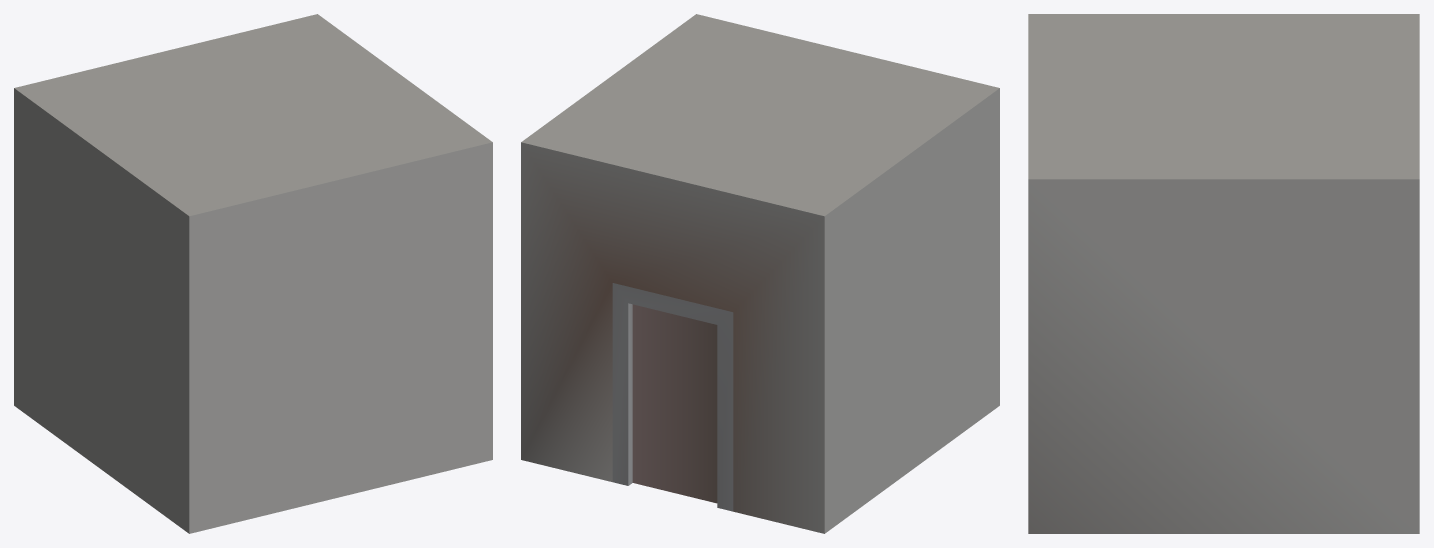
File: wall-a-door.glb
The picture shows the model from 3 angles, left to right: view 1: azimuth 30°, elevation 25°; view 2: azimuth 150°, elevation 25°; view 3: azimuth 270°, elevation 25°; orthographic projection. The views are drawn at different scales.
Parts seen in each view (by area): view 1: wall-a-door; view 2: wall-a-door; view 3: wall-a-door.
Boxes of the visible parts, x1,y1,x2,y2 form: wall-a-door: [14, 14, 492, 533]; wall-a-door: [521, 14, 999, 533]; wall-a-door: [1028, 14, 1419, 533].
Bounding box in the file's own units: 1 × 1 × 1.
